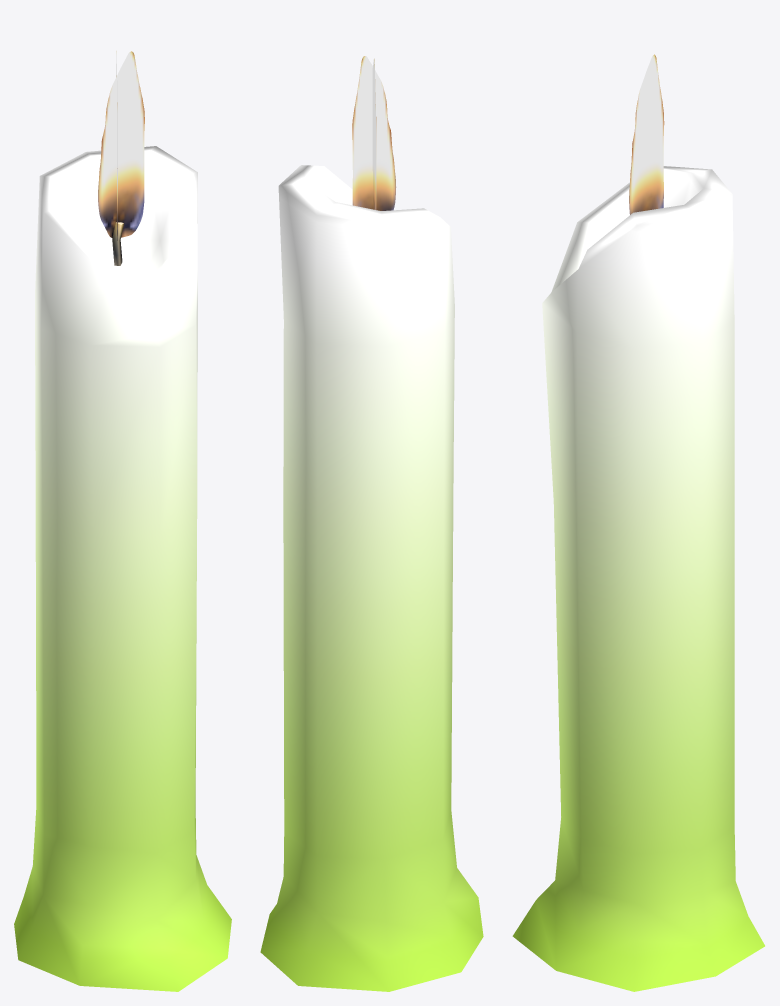
The model's file is CandleShapeA.021.glb.
The picture shows the model from 3 angles, left to right: view 1: azimuth 30°, elevation 25°; view 2: azimuth 150°, elevation 25°; view 3: azimuth 270°, elevation 25°; orthographic projection.
Visible parts, largest first — view 1: CandleShapeA.021; view 2: CandleShapeA.021; view 3: CandleShapeA.021.
Part boxes in pixels (x1=…): CandleShapeA.021: x1=14, y1=51, x2=231, y2=991; CandleShapeA.021: x1=260, y1=56, x2=483, y2=991; CandleShapeA.021: x1=512, y1=54, x2=764, y2=991.
Size of the model in its own units: 0.0814 by 0.3472 by 0.0887.
Materials: 2 (2 with a texture image).
